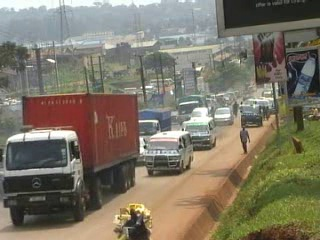Car: (211, 105, 235, 127), (186, 103, 211, 124), (135, 132, 145, 168)
Motorcycle: (231, 100, 239, 117)
